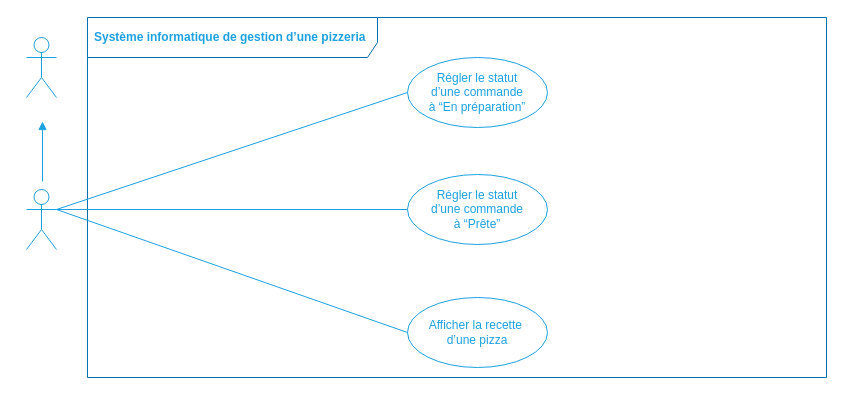
The diagram is 844 pixels wide and 395 high, and some of its shapes have lost their labels. The centre of each missing label's shape, as x and y in pixels:
"Employé" belongs at point (41, 67).
"Pizzaïolo" belongs at point (41, 219).
